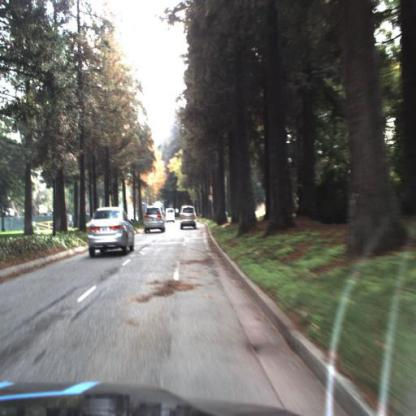car: (88, 208, 136, 256), (143, 203, 169, 235), (178, 203, 200, 230), (165, 206, 177, 227), (166, 205, 177, 226)
